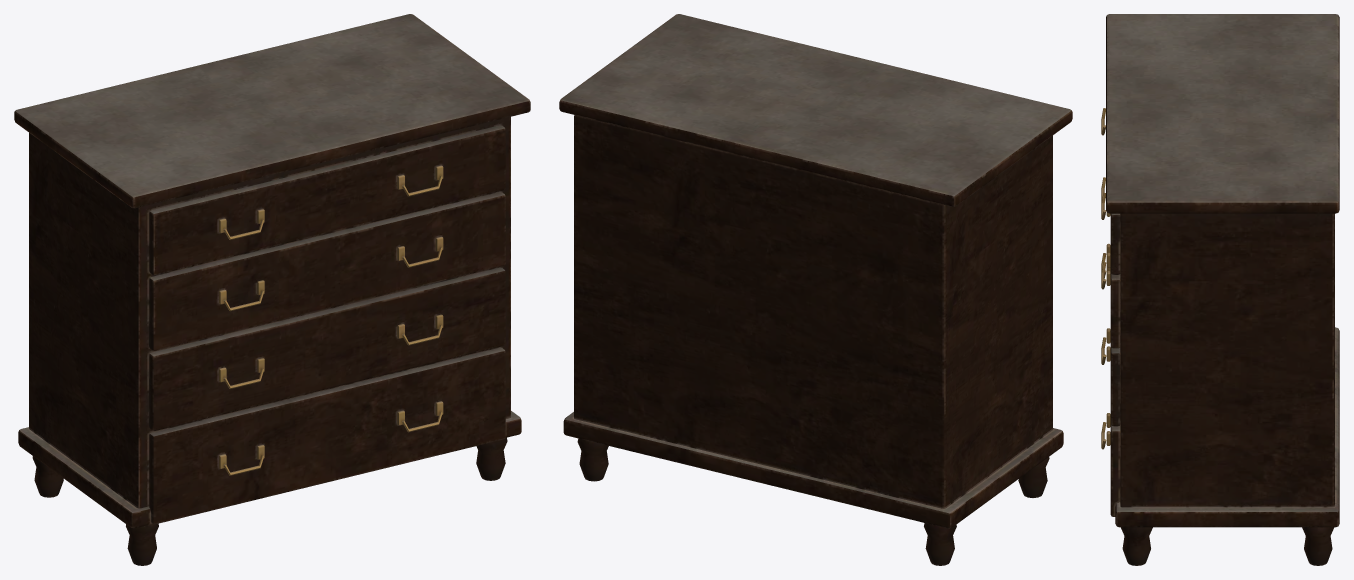
File: dresser.glb
3 views of the same model, side by side, from view 1: azimuth 30°, elevation 25°; view 2: azimuth 150°, elevation 25°; view 3: azimuth 270°, elevation 25° (orthographic). The views are drawn at different scales.
Parts seen in each view (by area): view 1: dresser; view 2: dresser; view 3: dresser.
Boxes of the visible parts, x1,y1,x2,y2 form: dresser: (14,14,530,565); dresser: (559,14,1072,565); dresser: (1101,14,1339,565).
Bounding box in the file's own units: 0.94 × 0.86 × 0.4996.
Materials: 1 (1 with a texture image).
